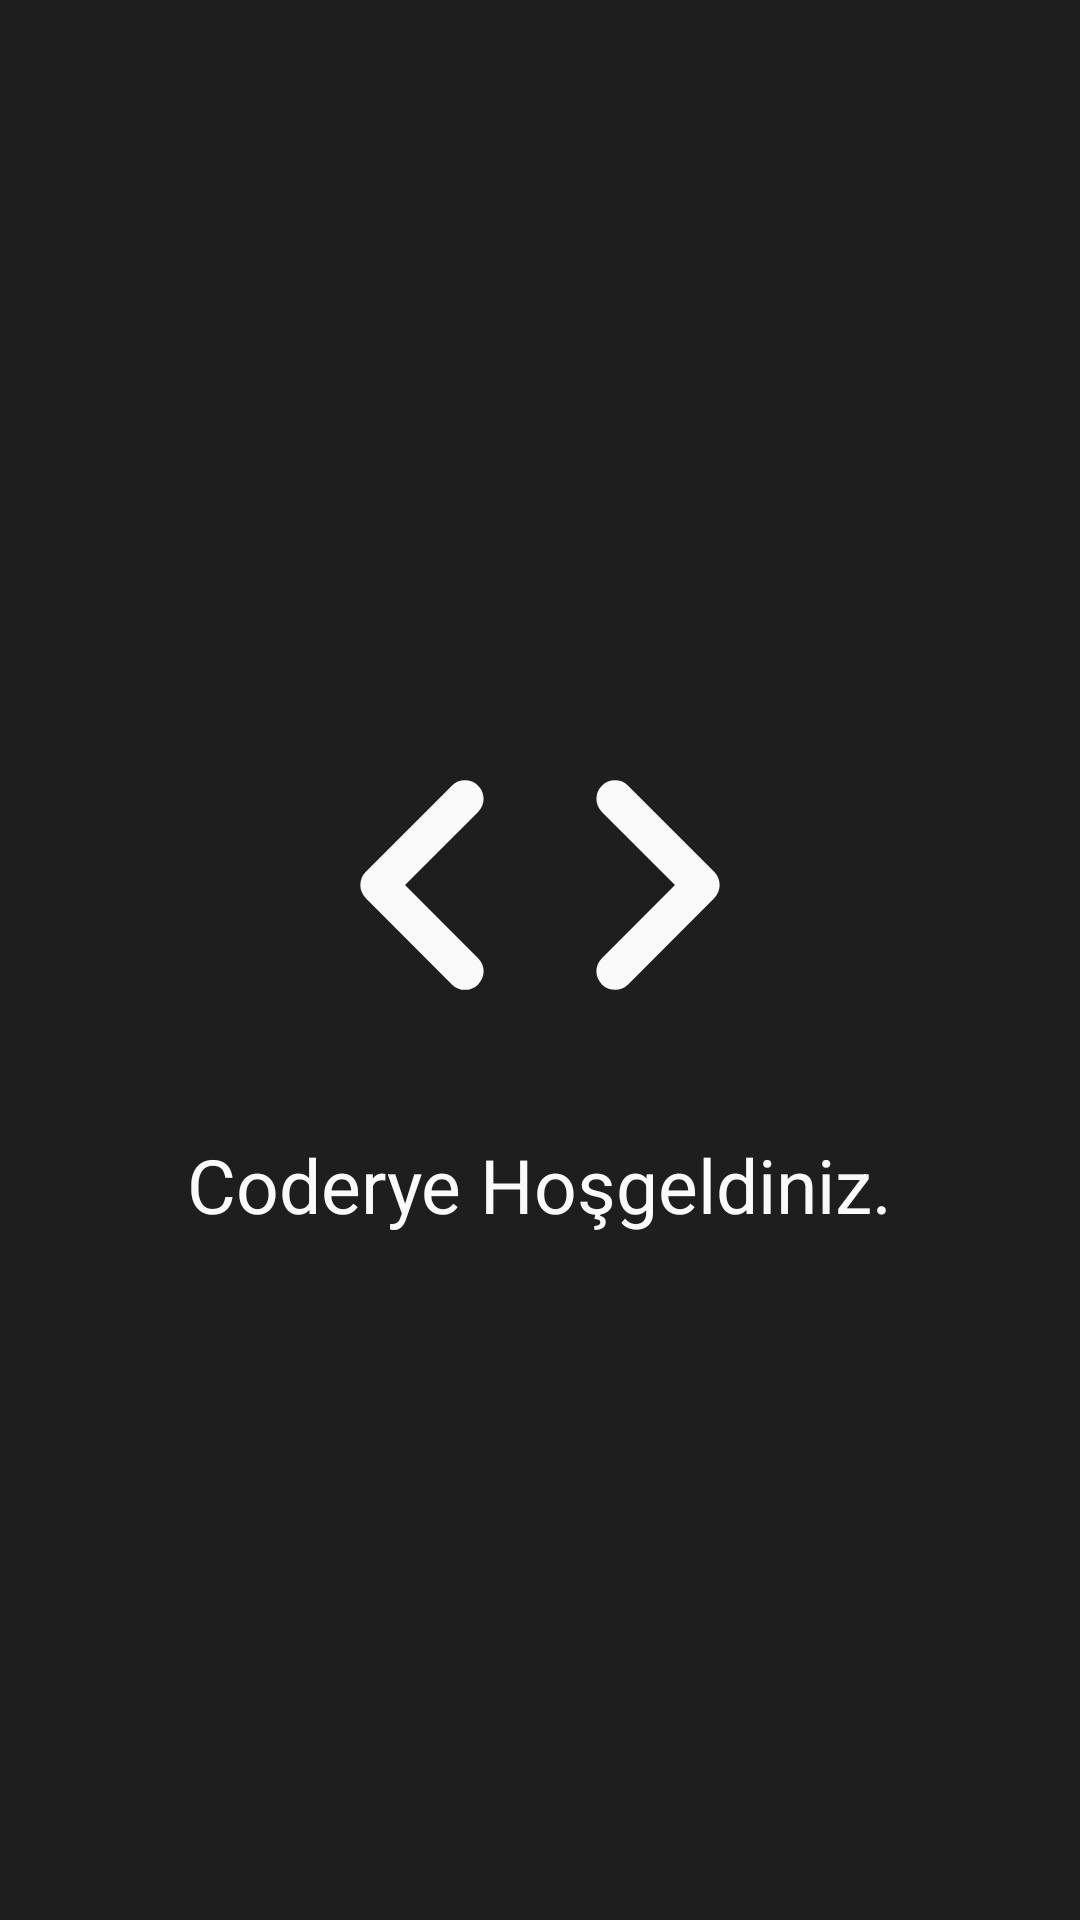

Icons on this 1080 x 1920 Android screen, each with the point to tap as point (x, y):
kod: point (540, 885)
